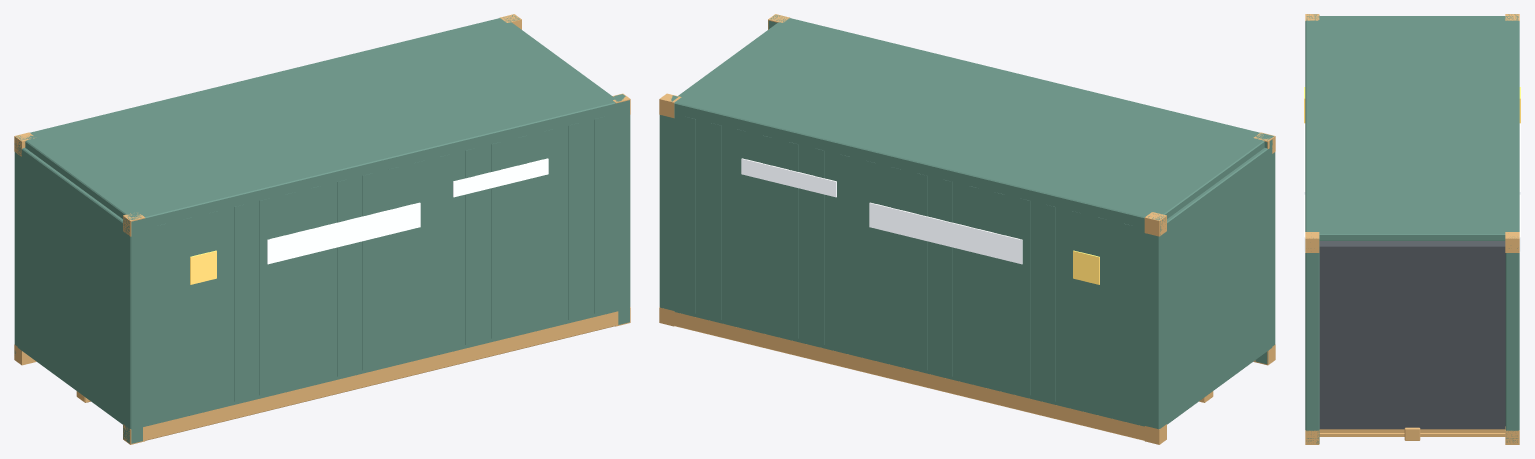
File: bulk-container-v4-medium.glb
3 renders of one model, left to right at view 1: azimuth 30°, elevation 25°; view 2: azimuth 150°, elevation 25°; view 3: azimuth 270°, elevation 25°, orthographic. The views are drawn at different scales.
Parts seen in each view (by area): view 1: bulk-container-v4-medium-v5_cr20_green, bulk-container-v4-medium-v5_cr20_bottom_rust, bulk-container-v4-medium-v5_cr20_white_mark, bulk-container-v4-medium-v5_tilter_yellow; view 2: bulk-container-v4-medium-v5_cr20_green, bulk-container-v4-medium-v5_cr20_bottom_rust, bulk-container-v4-medium-v5_cr20_white_mark, bulk-container-v4-medium-v5_tilter_yellow; view 3: bulk-container-v4-medium-v5_cr20_green, bulk-container-v4-medium-v5_cr20_inner_dark, bulk-container-v4-medium-v5_cr20_bottom_rust, bulk-container-v4-medium-v5_cr20_white_mark.
Part boxes in pixels (left/top/right/bottom): bulk-container-v4-medium-v5_cr20_green: left=14, top=14, right=630, bottom=443; bulk-container-v4-medium-v5_cr20_bottom_rust: left=14, top=14, right=630, bottom=444; bulk-container-v4-medium-v5_cr20_white_mark: left=267, top=158, right=548, bottom=264; bulk-container-v4-medium-v5_tilter_yellow: left=190, top=250, right=216, bottom=284; bulk-container-v4-medium-v5_cr20_green: left=659, top=15, right=1275, bottom=429; bulk-container-v4-medium-v5_cr20_bottom_rust: left=659, top=14, right=1275, bottom=444; bulk-container-v4-medium-v5_cr20_white_mark: left=741, top=158, right=1022, bottom=264; bulk-container-v4-medium-v5_tilter_yellow: left=1073, top=250, right=1099, bottom=284; bulk-container-v4-medium-v5_cr20_green: left=1305, top=14, right=1519, bottom=443; bulk-container-v4-medium-v5_cr20_inner_dark: left=1319, top=241, right=1505, bottom=429; bulk-container-v4-medium-v5_cr20_bottom_rust: left=1305, top=14, right=1519, bottom=444; bulk-container-v4-medium-v5_cr20_white_mark: left=1304, top=123, right=1520, bottom=251.
Size of the model in its own units: 6.06 by 2.59 by 2.47.
